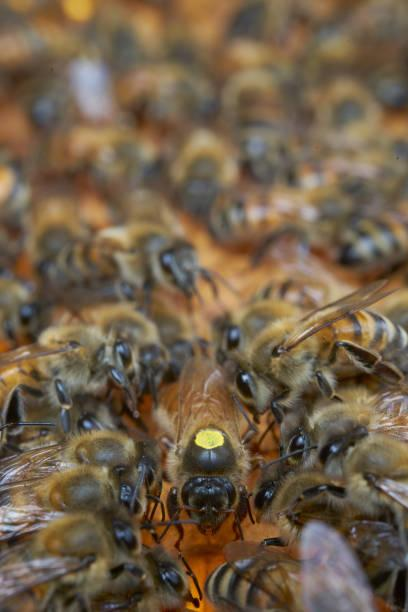Queen-Bee: (159, 357, 249, 537)
worker-bee: (233, 281, 407, 412)
